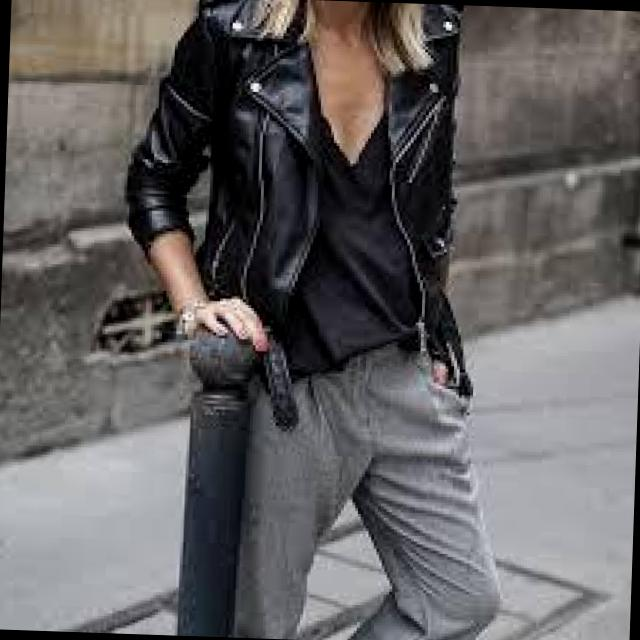jacket: (116, 0, 484, 380)
pants: (236, 356, 507, 640)
